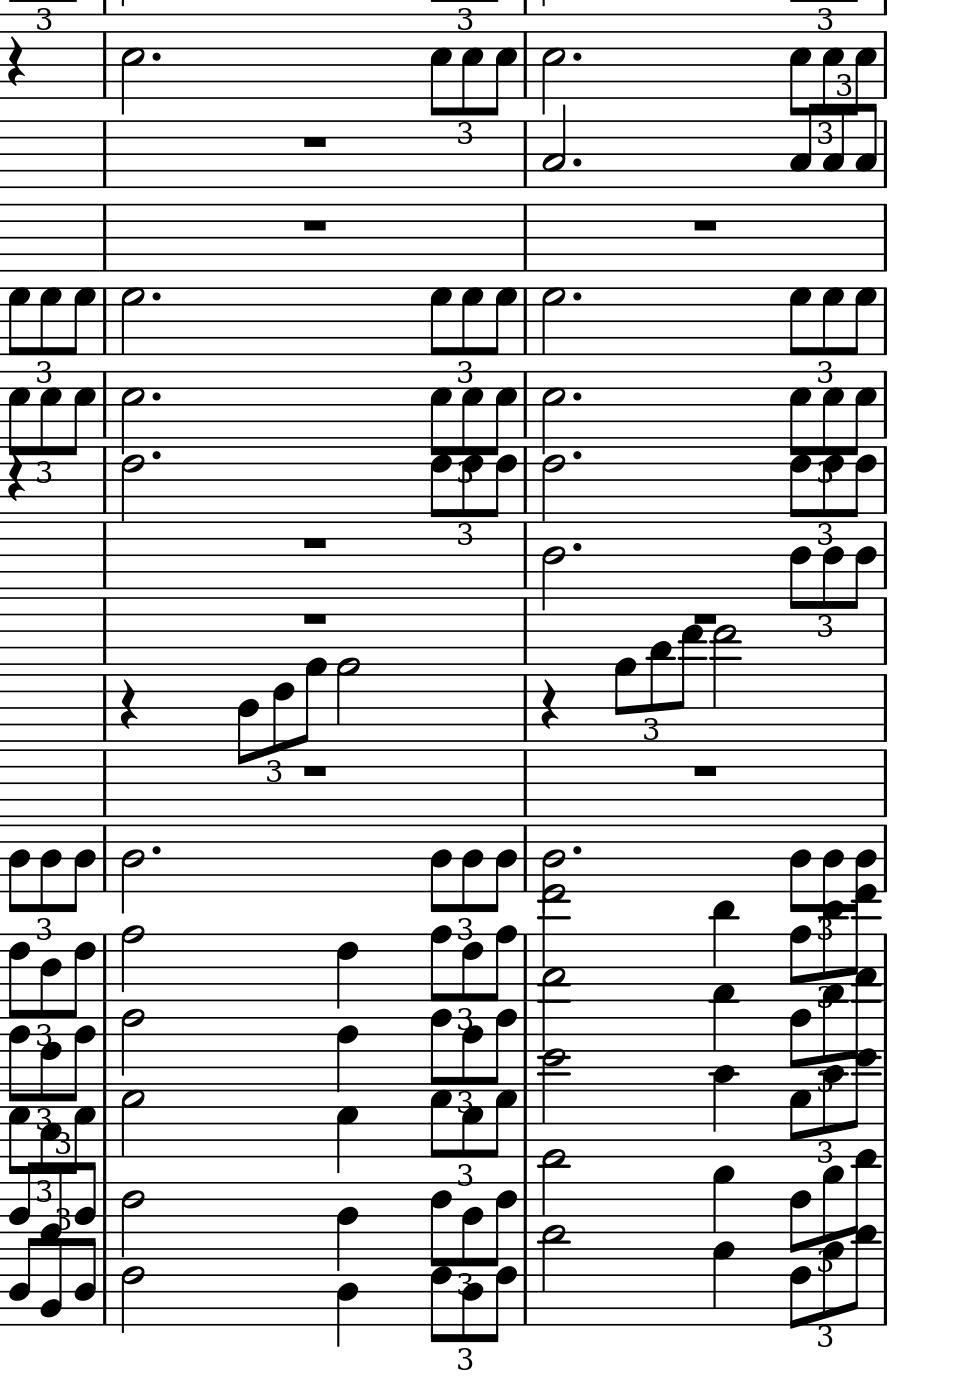2_4: (119, 822, 147, 916)
2_5: (117, 27, 144, 115), (539, 25, 566, 112)
2_7: (118, 285, 146, 357), (539, 286, 566, 356)
3: (813, 359, 833, 386), (34, 916, 52, 944), (813, 522, 834, 546), (815, 6, 833, 33), (455, 916, 475, 940)
8_5: (490, 30, 517, 116), (459, 29, 484, 115), (428, 27, 452, 116)
8_7: (67, 287, 97, 356), (848, 286, 877, 356), (489, 286, 517, 356), (820, 286, 844, 356), (38, 286, 62, 356), (428, 286, 452, 356), (7, 286, 30, 356), (460, 286, 483, 355)
Rests1: (298, 214, 330, 235), (688, 215, 720, 235), (299, 607, 331, 627), (298, 131, 331, 151), (299, 533, 331, 552), (690, 762, 722, 780), (300, 762, 331, 780)
Rests4: (116, 676, 139, 731), (538, 678, 560, 731), (6, 35, 27, 89)
Single_barline: (876, 31, 896, 99), (877, 121, 897, 189), (877, 446, 896, 515), (877, 287, 896, 355), (518, 1248, 535, 1324), (519, 1001, 533, 1085), (877, 371, 895, 438), (877, 824, 895, 891), (877, 204, 894, 271), (878, 521, 894, 590), (519, 1085, 533, 1157), (877, 1253, 892, 1326), (878, 749, 893, 817), (518, 676, 532, 742), (878, 673, 892, 743), (878, 597, 892, 666), (520, 1182, 533, 1250), (519, 291, 533, 352), (519, 453, 532, 519), (98, 121, 111, 186), (520, 826, 533, 891), (520, 934, 533, 999), (98, 292, 112, 351), (98, 34, 111, 98), (98, 451, 111, 514), (519, 749, 531, 815), (519, 599, 531, 664), (519, 35, 532, 94), (98, 599, 110, 663), (518, 124, 531, 182), (519, 373, 532, 432), (98, 374, 111, 433), (98, 524, 110, 586), (519, 526, 531, 589), (519, 207, 531, 264), (98, 206, 110, 259), (876, 1, 893, 16), (98, 1, 111, 15), (519, 1, 531, 14)
